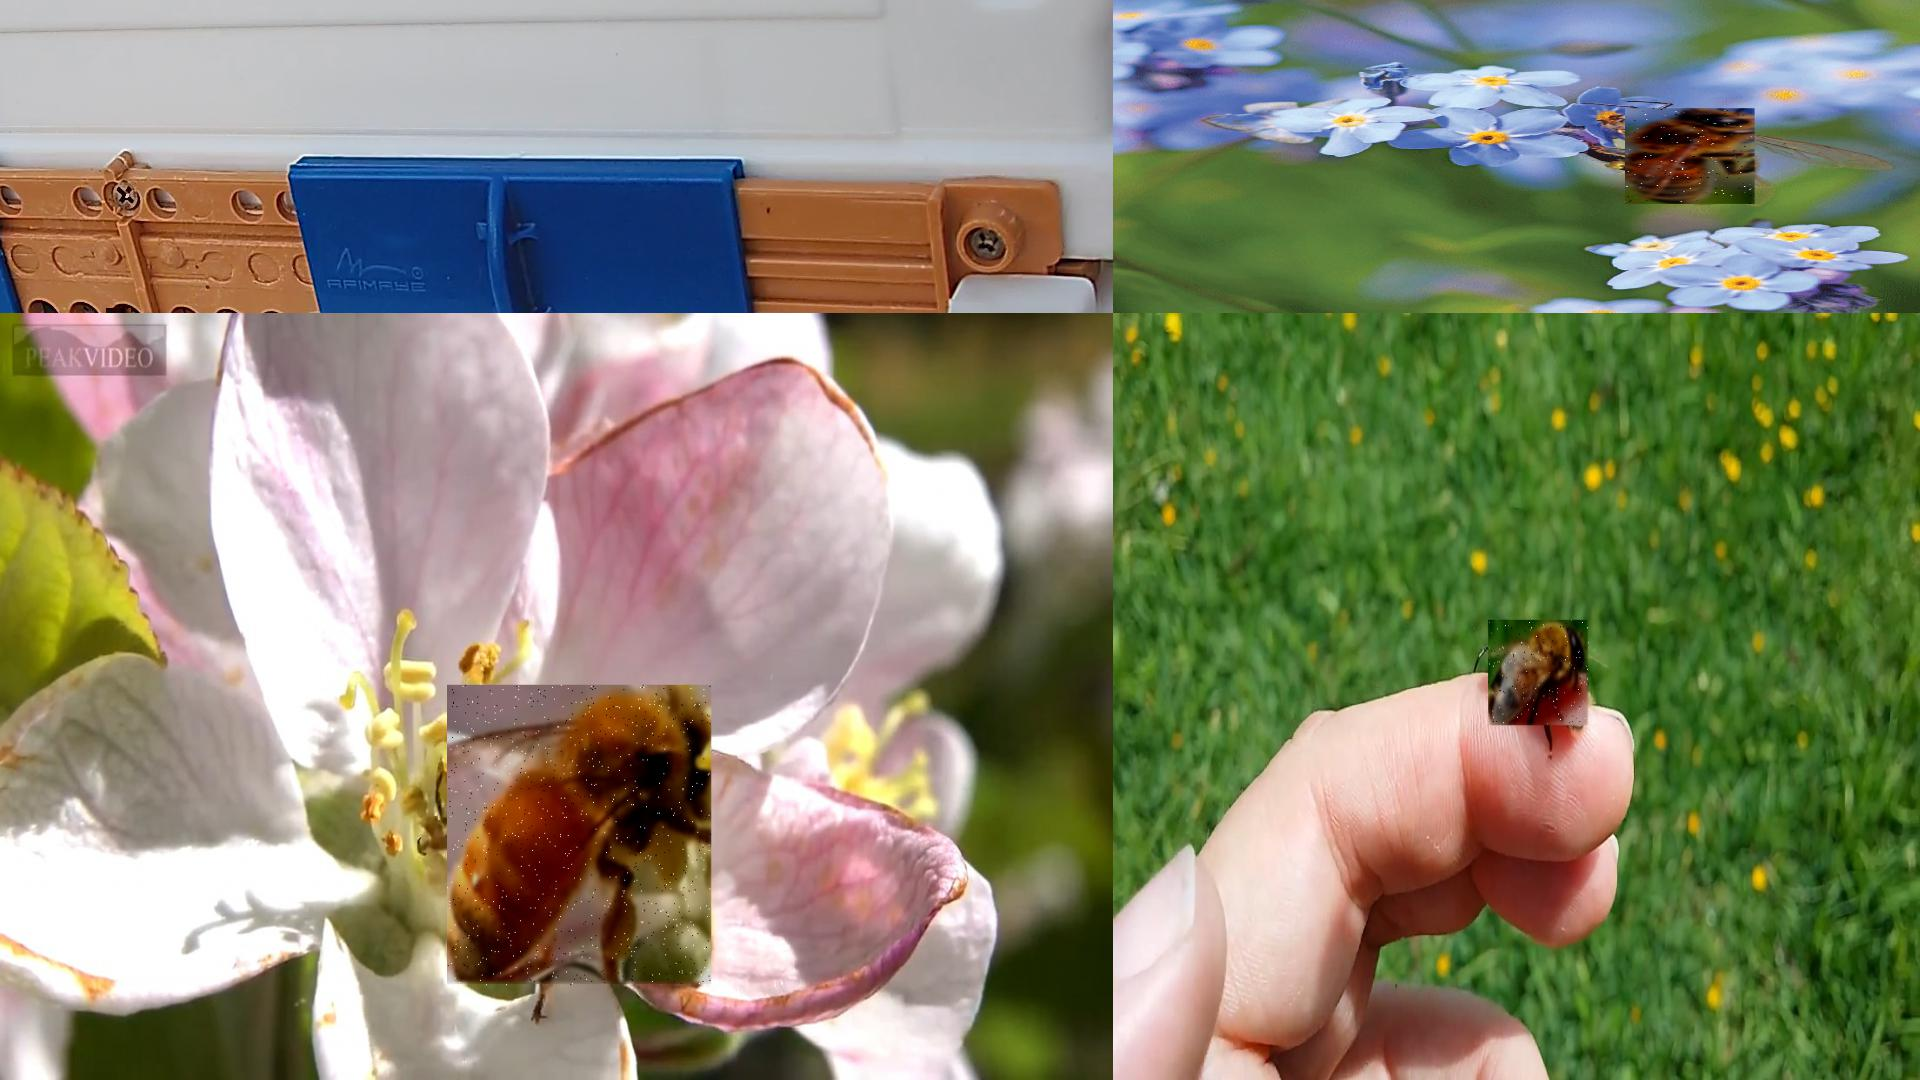bee: (1625, 108, 1756, 204)
drone: (1489, 620, 1590, 727)
pollenbee: (447, 686, 712, 988)
